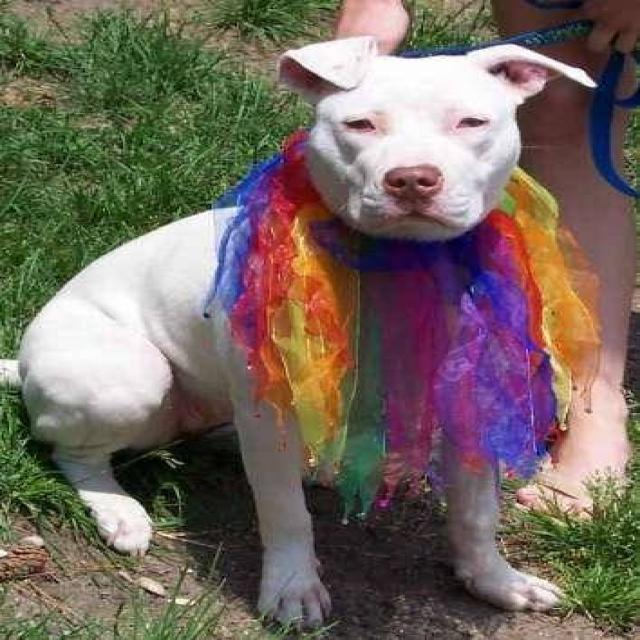dogs: (0, 29, 627, 639)
